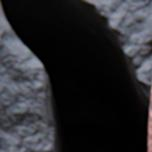brick: (149, 96, 151, 151)
crack: (0, 0, 150, 151)
